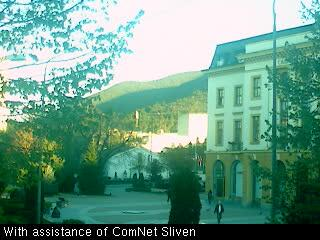person: (214, 201, 224, 223), (207, 189, 213, 204), (165, 188, 171, 203)
